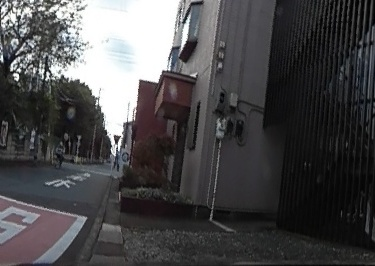person: (55, 138, 65, 167)
